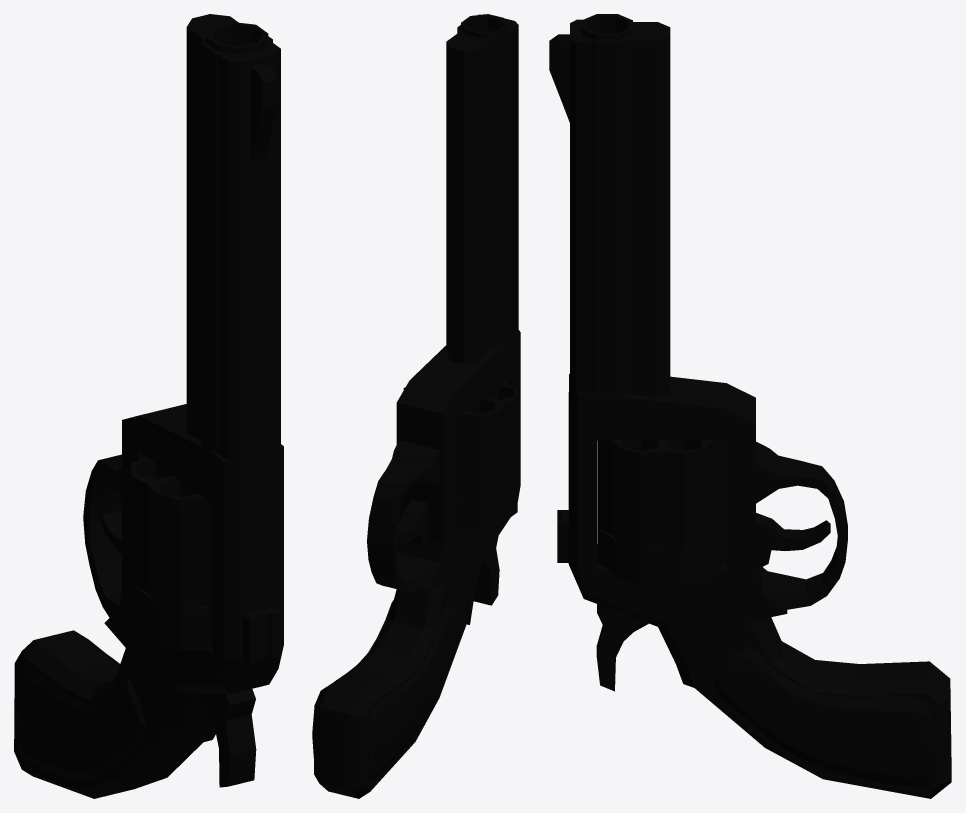
The model's file is RugerGP100.fbx.
3 renders of one model, left to right at view 1: azimuth 30°, elevation 25°; view 2: azimuth 150°, elevation 25°; view 3: azimuth 270°, elevation 25°, orthographic. The views are drawn at different scales.
Visible parts, largest first — view 1: asset_RugerGP100.001; view 2: asset_RugerGP100.001; view 3: asset_RugerGP100.001.
Part boxes in pixels (x1,y1,x2,y2): asset_RugerGP100.001: [14, 14, 283, 798]; asset_RugerGP100.001: [312, 14, 520, 798]; asset_RugerGP100.001: [549, 14, 951, 798].
Size of the model in its own units: 0.0201 by 0.135 by 0.0643.
